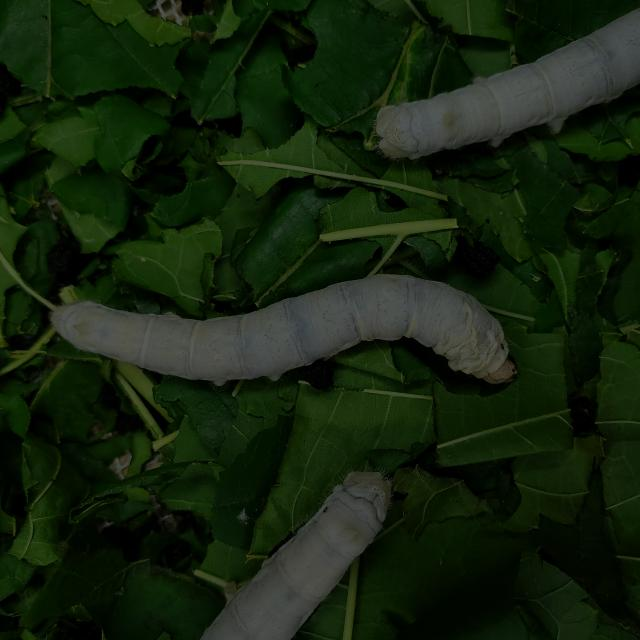Healthy: (52, 259, 517, 414)
